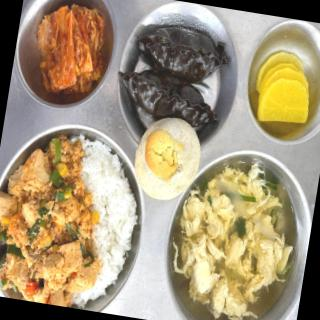Nasi: (70, 146, 141, 314)
